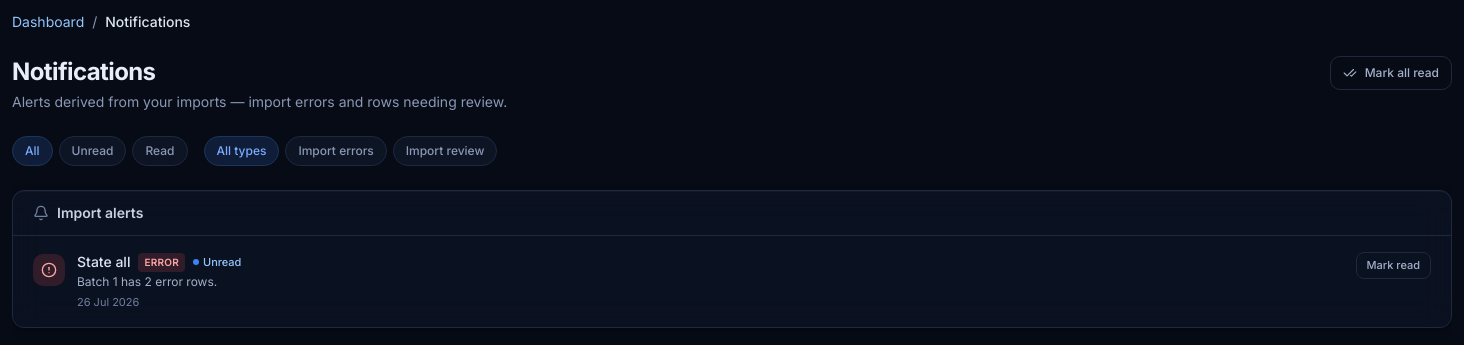
Test: NotificationsPage › resets accumulated rows when the filter changes
Check: the text "State all" is shown, box [77,252,130,272]
Click the button "Unread".
click(93, 151)  # box [59,136,126,166]
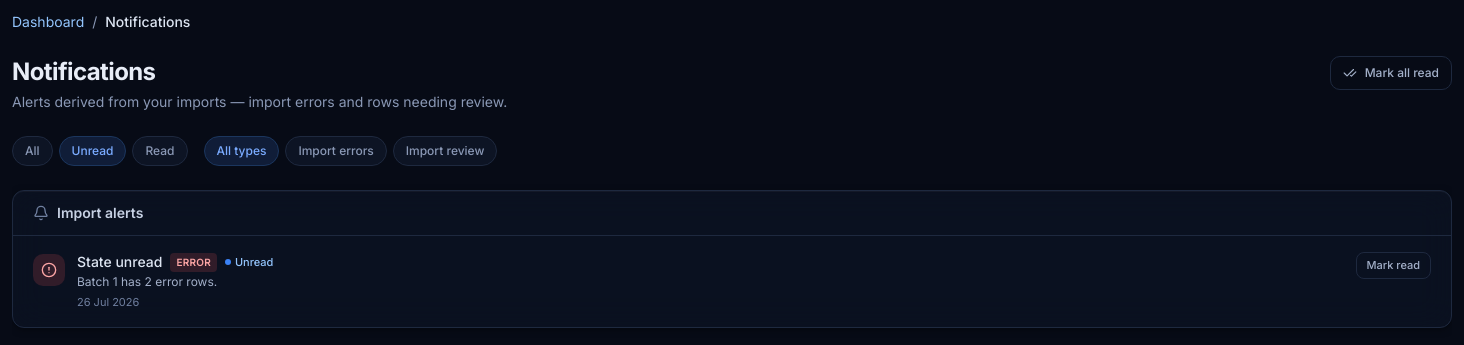
Check: the text "State unread" is shown, box [77,252,162,272]
Check: the text "State all" is gone
